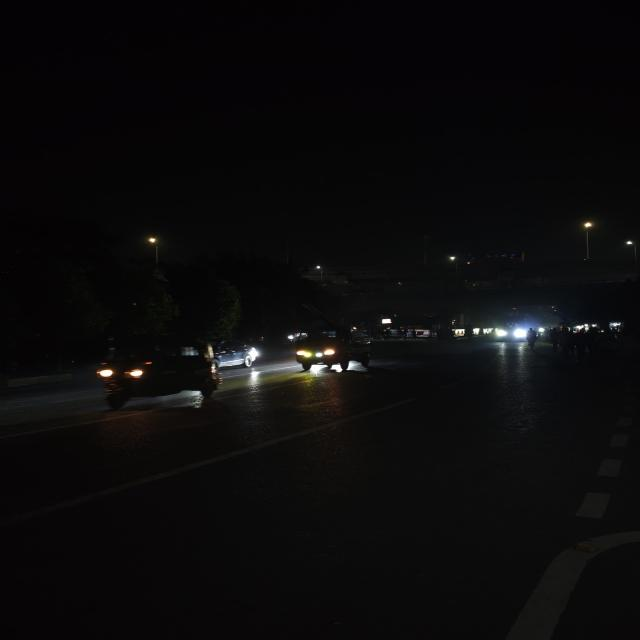bicycle: (522, 328, 539, 352)
bus: (494, 318, 524, 342)
car: (213, 338, 261, 371)
cng: (80, 337, 218, 408)
pickup_van: (289, 321, 385, 375)
